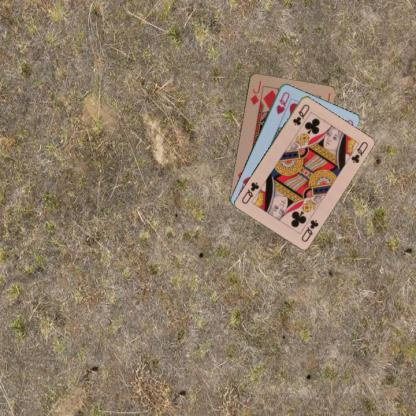Jd: (247, 78, 263, 106)
Qc: (298, 216, 320, 242), (290, 101, 311, 127)
Qh: (273, 89, 291, 115)
